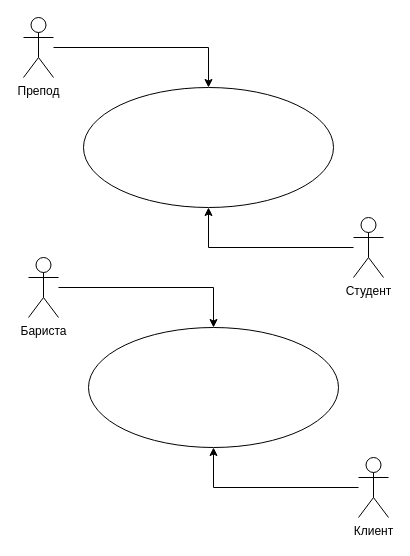
Some shapes in this 410 by 556 pixel diagram are drawn without their labels. The centre of each missing label's shape, as x and y in pixels:
иммитировать протсейшую модель: (208,147)
практическое использование: (213,387)
